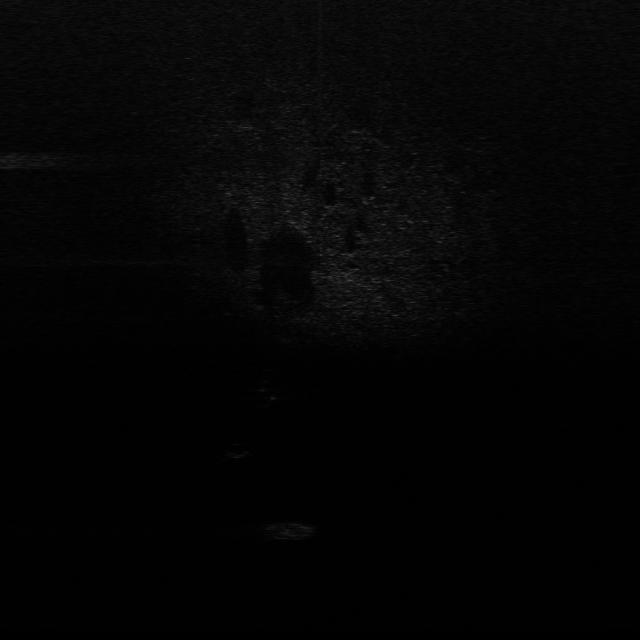ball: (224, 440, 252, 461)
circle cage: (259, 518, 322, 542)
human body: (260, 370, 280, 417)
